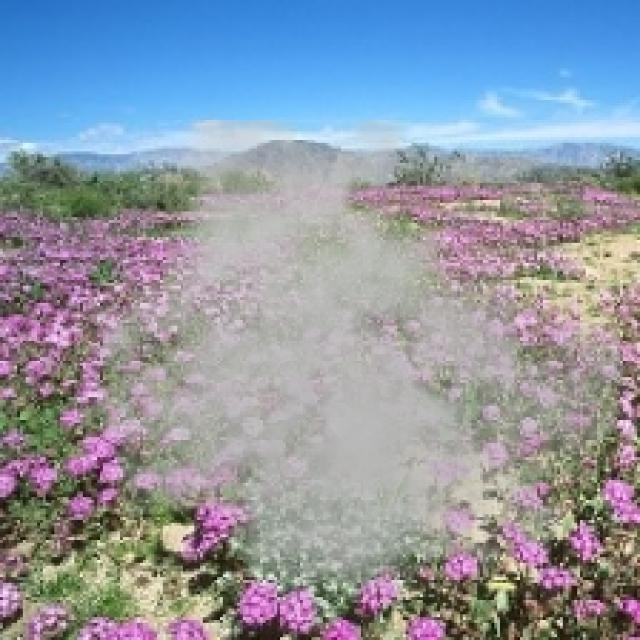smoke: (69, 120, 626, 637)
